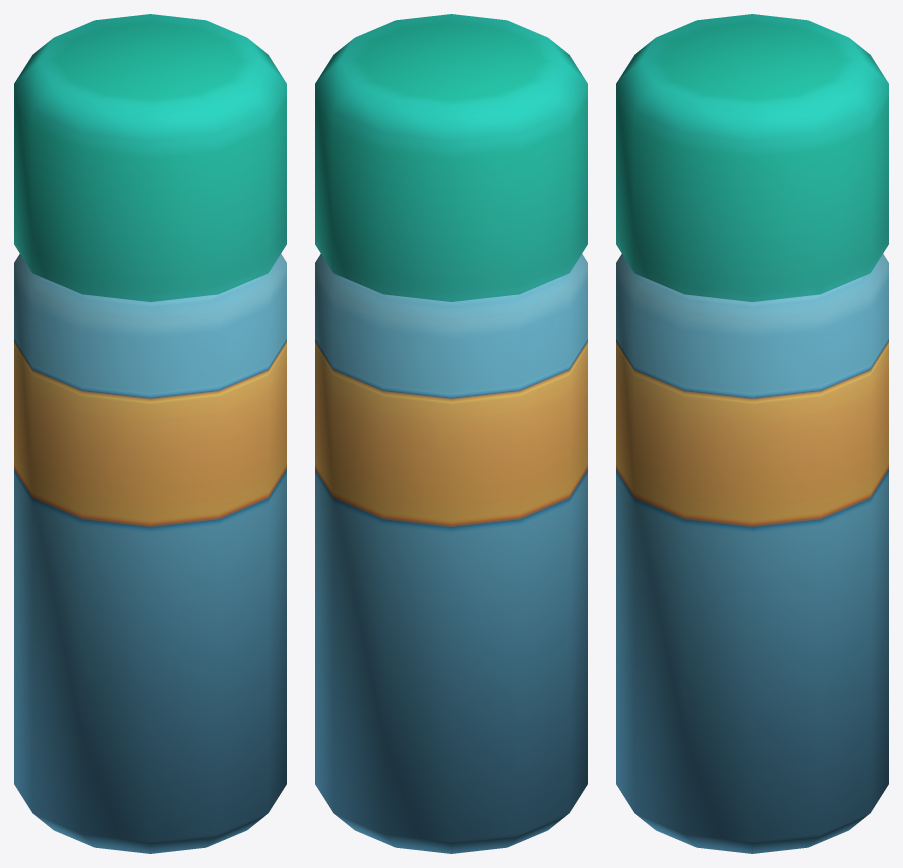
The model's file is SE_Thermos_01.fbx.
3 renders of one model, left to right at view 1: azimuth 30°, elevation 25°; view 2: azimuth 150°, elevation 25°; view 3: azimuth 270°, elevation 25°, orthographic.
Parts seen in each view (by area): view 1: SE_Thermos_01; view 2: SE_Thermos_01; view 3: SE_Thermos_01.
Boxes of the visible parts, left/top/right/bottom form: SE_Thermos_01: left=14, top=14, right=286, bottom=853; SE_Thermos_01: left=315, top=14, right=587, bottom=853; SE_Thermos_01: left=616, top=14, right=888, bottom=853.
Size of the model in its own units: 0.767 by 2.31 by 0.767.
